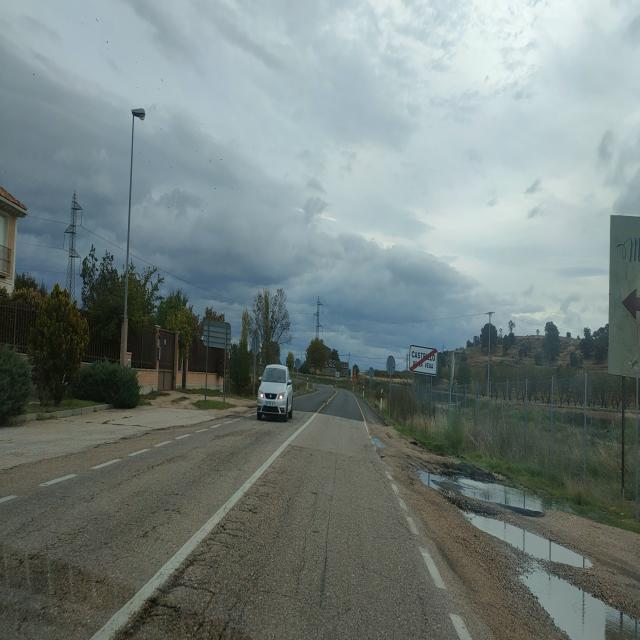Poth-hole: (100, 435, 297, 640)
